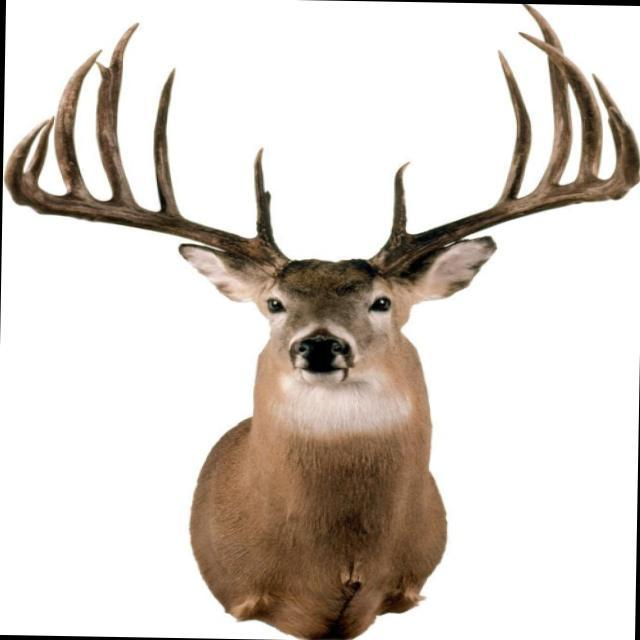E1: (95, 61, 108, 81)
L-F: (371, 104, 639, 272)
L-G1: (387, 161, 411, 241)
L-G2: (495, 49, 531, 202)
L-G4: (518, 32, 602, 182)
R-F: (4, 119, 288, 277)
R-G1: (249, 146, 280, 248)
R-G2: (152, 67, 181, 217)
R-G3: (96, 21, 139, 206)
R-G4: (54, 49, 103, 200)
